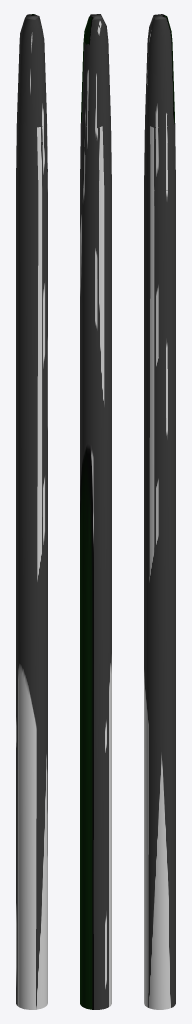
File: rocket.obj
The picture shows the model from 3 angles, left to right: view 1: azimuth 30°, elevation 25°; view 2: azimuth 150°, elevation 25°; view 3: azimuth 330°, elevation 25°; orthographic projection.
Parts seen in each view (by area): view 1: 柱体.002; view 2: 柱体.002; view 3: 柱体.002.
Part boxes in pixels (box(x1,y1,x2,y2)): 柱体.002: box(16, 14, 47, 1009); 柱体.002: box(80, 14, 111, 1009); 柱体.002: box(144, 14, 175, 1009).
Bounding box in the file's own units: 0.1 × 3.4 × 0.0999.
